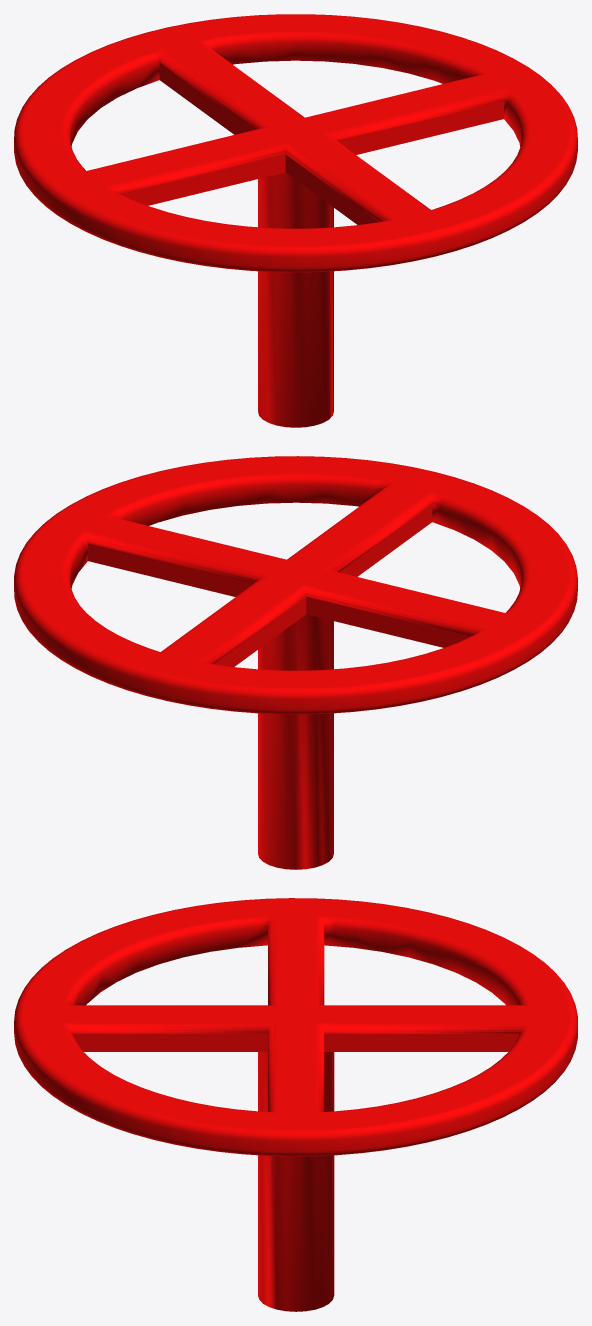
The model's file is valve.dae.
The picture shows the model from 3 angles, top to bottom: view 1: azimuth 30°, elevation 25°; view 2: azimuth 150°, elevation 25°; view 3: azimuth 270°, elevation 25°; orthographic projection.
Visible parts, largest first — view 1: Actor0; view 2: Actor0; view 3: Actor0.
Boxes of the visible parts, x1=… form: Actor0: x1=14, y1=14, x2=577, y2=427; Actor0: x1=14, y1=456, x2=577, y2=869; Actor0: x1=14, y1=898, x2=577, y2=1311.
Size of the model in its own units: 0.2 by 0.1999 by 0.11.
